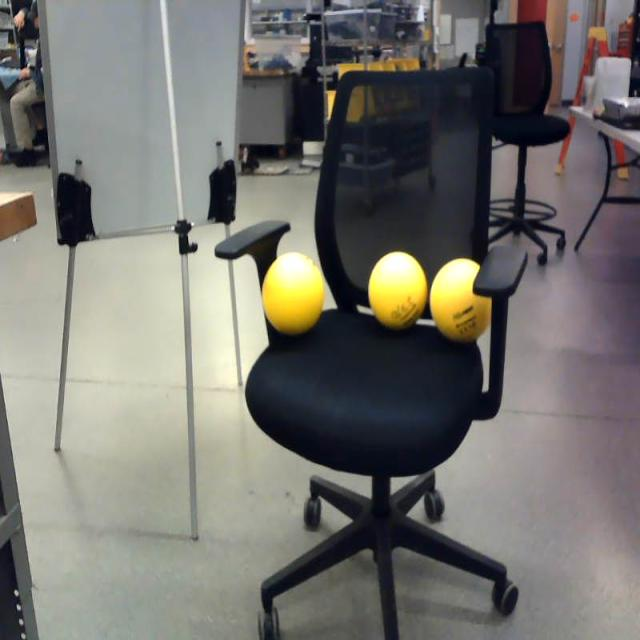Fuel: (430, 258, 492, 342), (262, 252, 324, 334), (369, 252, 428, 328)
